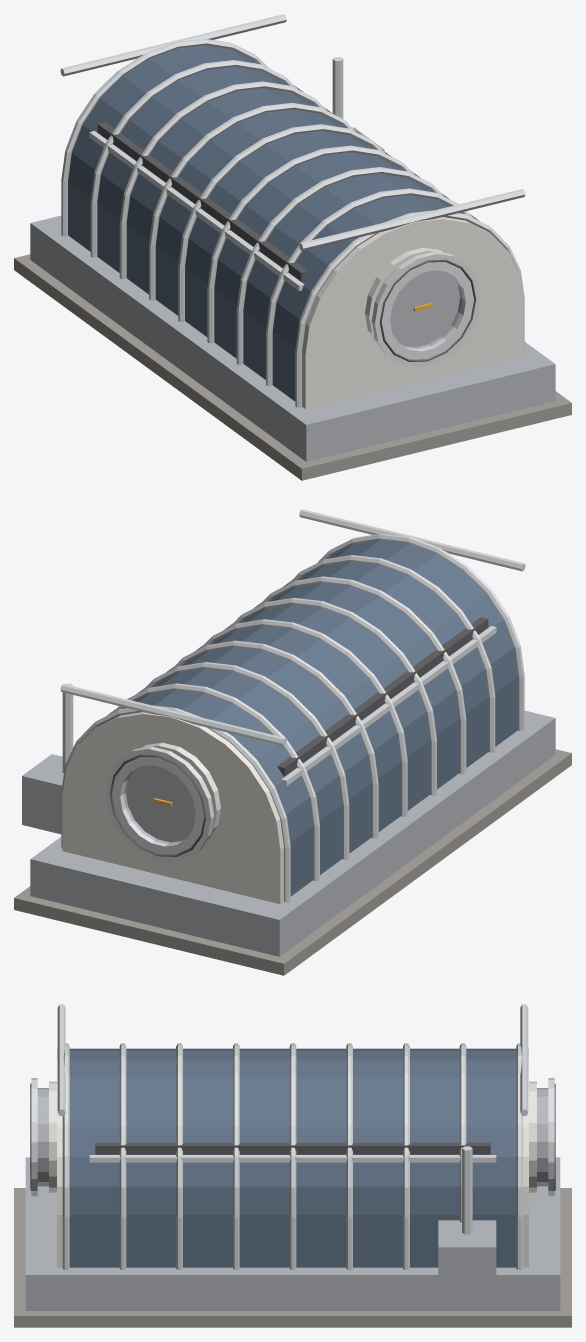
The model's file is greenhouse-module-b35be615.glb.
The picture shows the model from 3 angles, top to bottom: view 1: azimuth 30°, elevation 25°; view 2: azimuth 150°, elevation 25°; view 3: azimuth 270°, elevation 25°; orthographic projection. The views are drawn at different scales.
Parts seen in each view (by area): view 1: greenhouse-module; view 2: greenhouse-module; view 3: greenhouse-module.
Boxes of the visible parts, box(x1,y1,x2,y2) form: greenhouse-module: box(14, 14, 571, 480); greenhouse-module: box(14, 509, 571, 975); greenhouse-module: box(14, 1004, 571, 1327).
Size of the model in its own units: 5.8 by 3.94 by 9.6.
